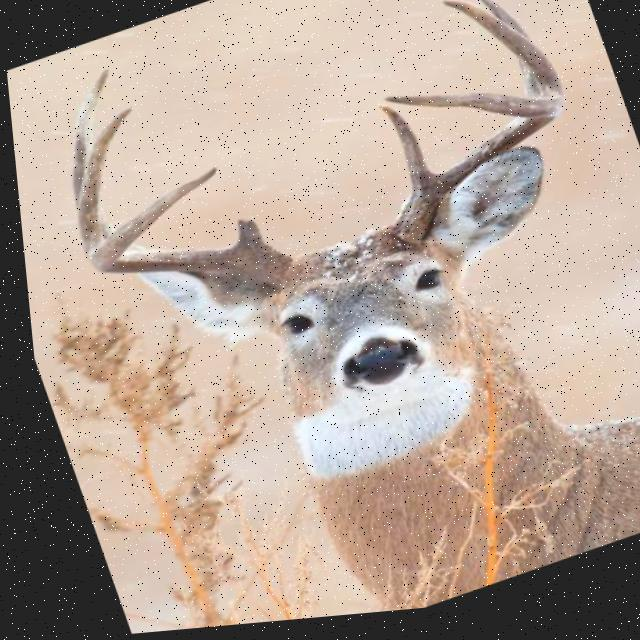L-F: (380, 101, 563, 251)
L-G1: (372, 109, 431, 199)
L-G2: (439, 6, 562, 108)
R-F: (81, 169, 288, 298)
R-G1: (229, 222, 260, 249)
R-G3: (72, 108, 133, 260)
